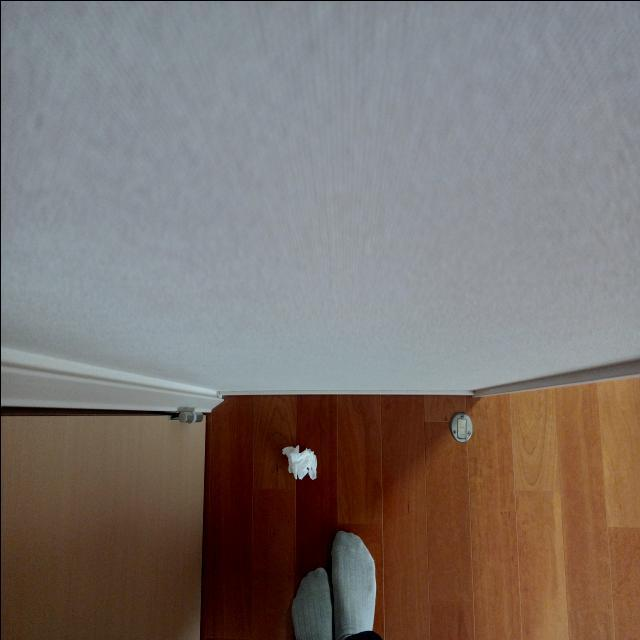Paper: (285, 433, 321, 484)
